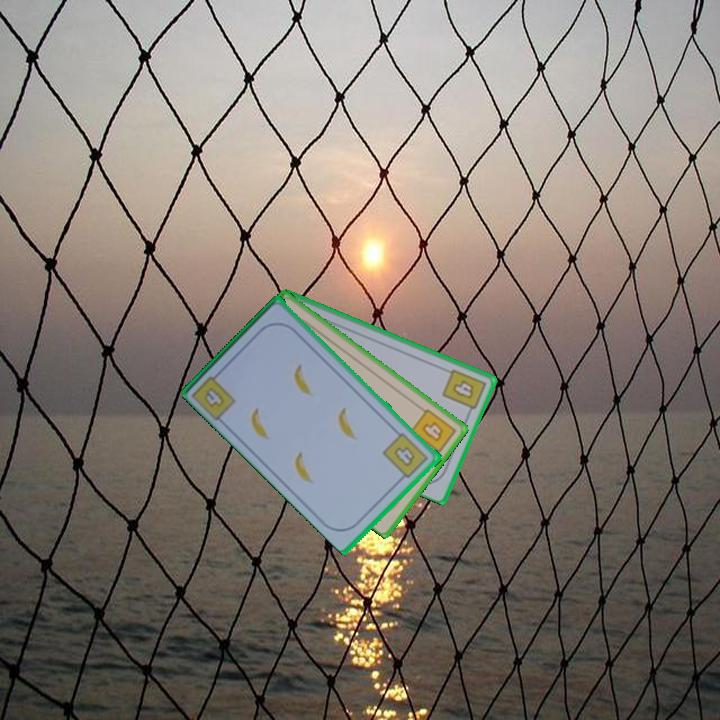4b: (407, 405, 459, 460), (379, 429, 431, 484), (189, 366, 239, 423), (439, 365, 489, 418)
